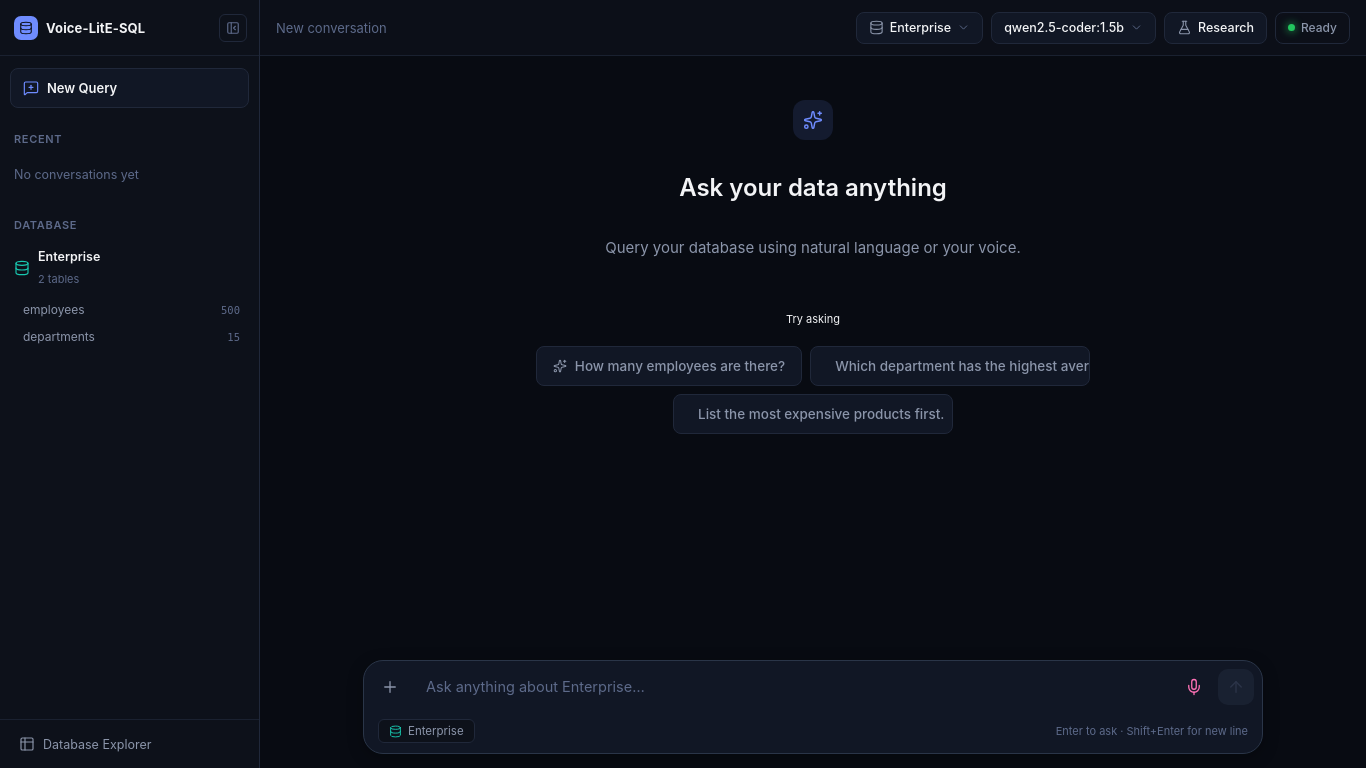
text query flow › clears the composer immediately after submitting
Type "How many employees are there?" into the text box with placeholder "Ask anything about Enterprise…".
click(792, 687); type("How many employees are there?")  # box [414,669,1170,705]
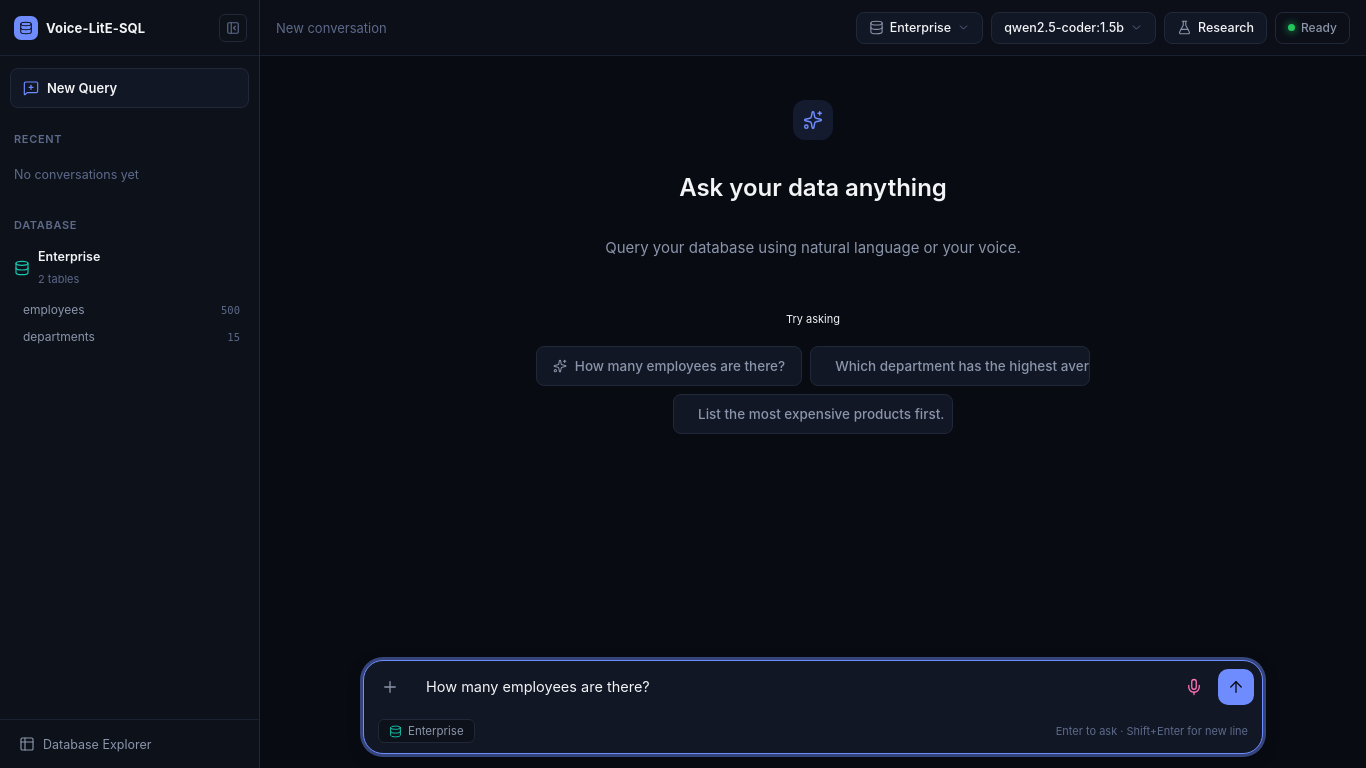
Click the button named "Send".
click(1236, 687)  # box [1218,669,1254,705]
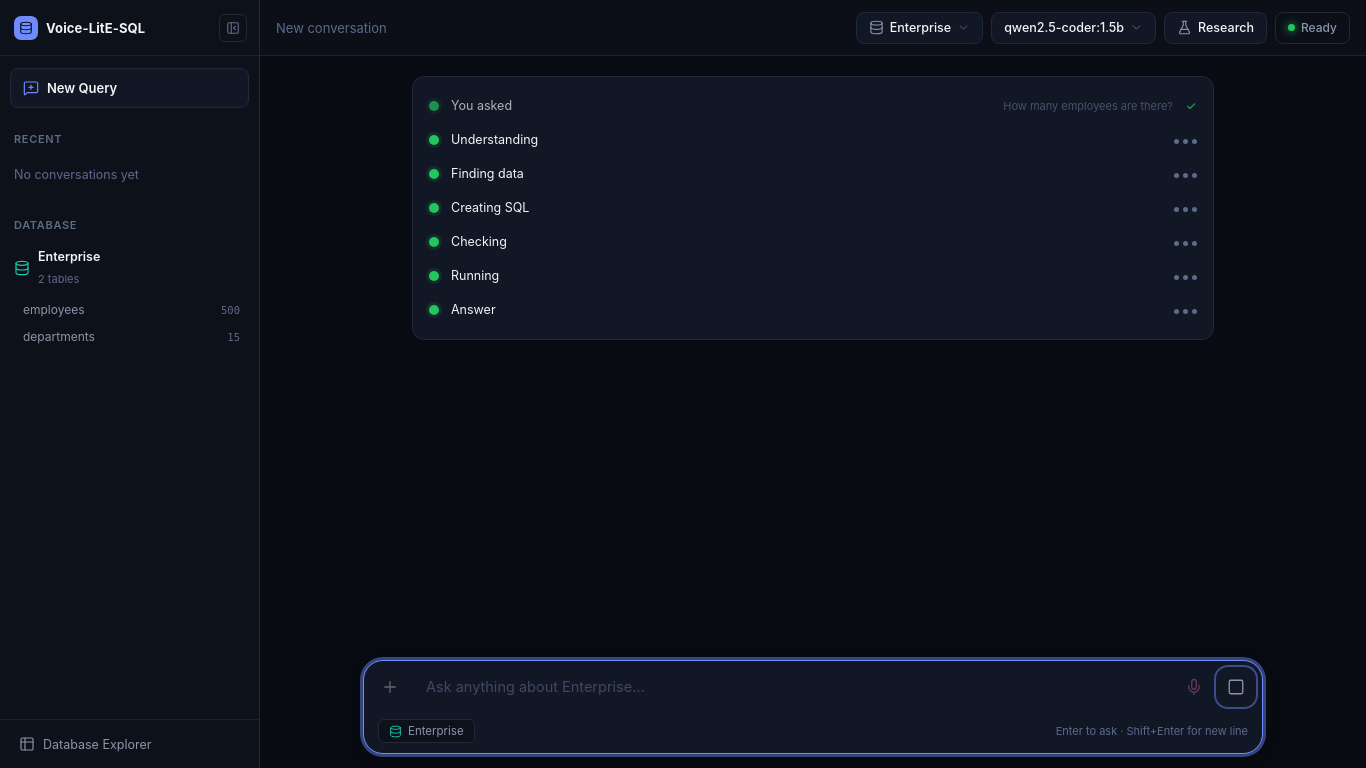
Now the text box with placeholder "Ask anything about Enterprise…" is empty, box [414,669,1170,705]
Now the text "You asked" is shown, box [451,98,512,113]
